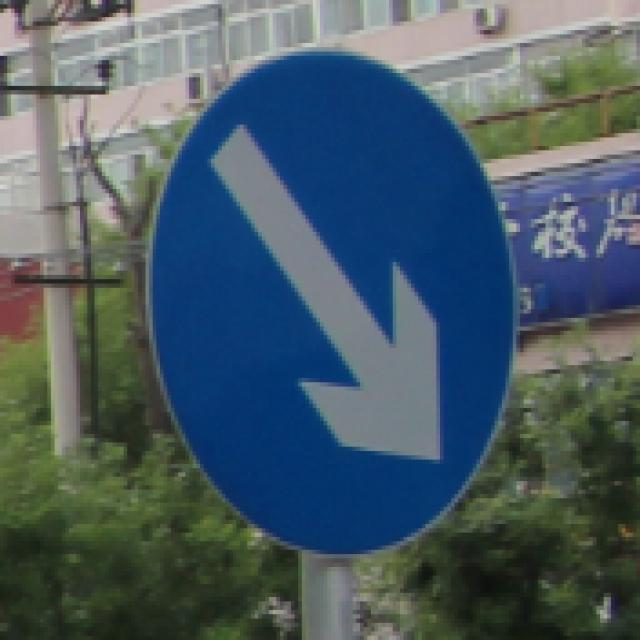Right: (149, 49, 528, 556)
